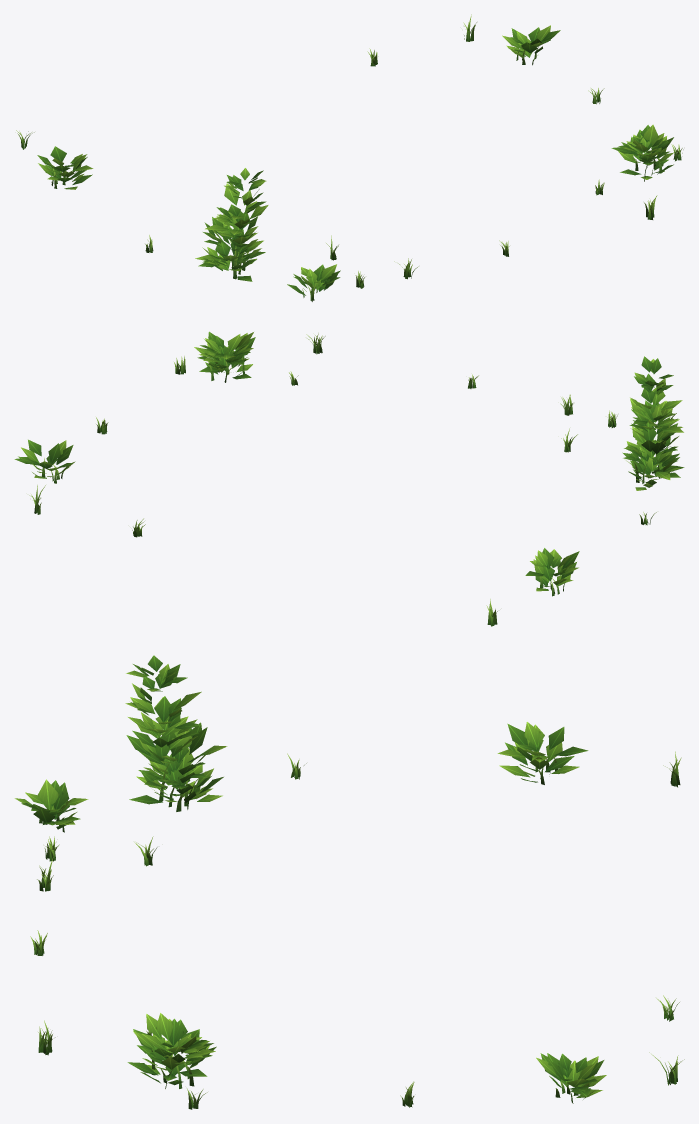
File: Workshop_Vegetation.fbx
3 renders of one model, top to bottom at view 1: azimuth 30°, elevation 25°; view 2: azimuth 150°, elevation 25°; view 3: azimuth 270°, elevation 25°, orthographic. The views are drawn at different scales.
Parts seen in each view (by area): view 1: Workshop_Vegetation; view 2: Workshop_Vegetation; view 3: Workshop_Vegetation.
Part boxes in pixels (x1,y1,x2,y2): Workshop_Vegetation: (16,14,683,301); Workshop_Vegetation: (14,331,684,626); Workshop_Vegetation: (14,655,684,1109).
Size of the model in its own units: 8.24 by 1.61 by 6.57.
Materials: 2 (2 with a texture image).
